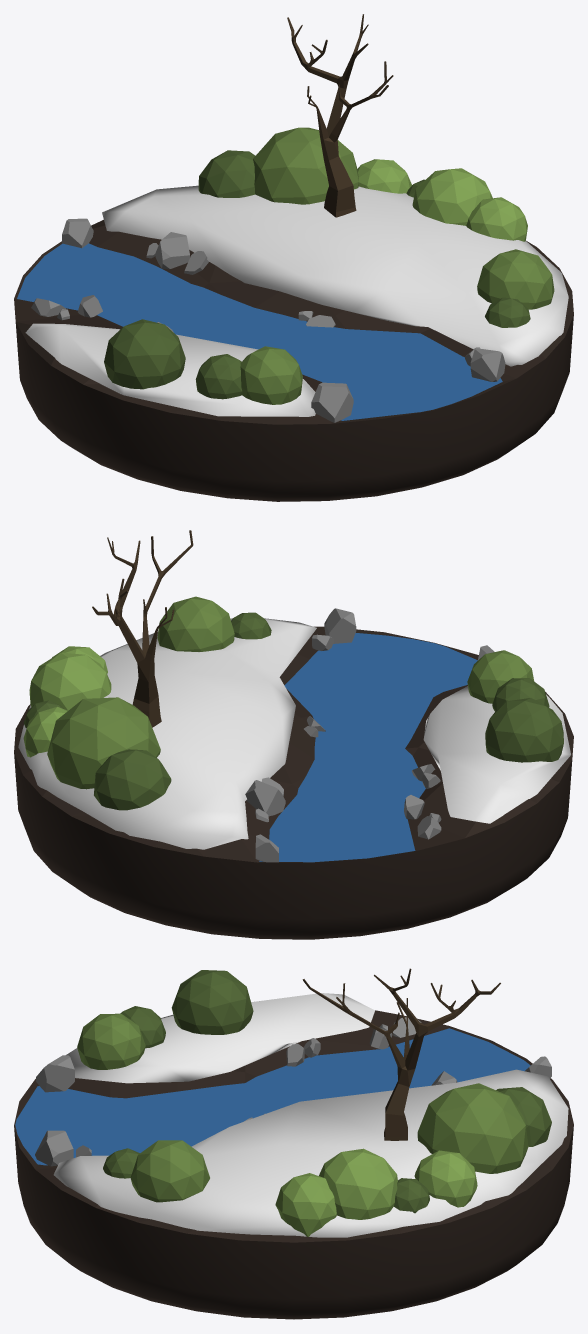
File: WinterV2.glb
3 views of the same model, one above another, from view 1: azimuth 30°, elevation 25°; view 2: azimuth 150°, elevation 25°; view 3: azimuth 270°, elevation 25° (orthographic).
Visible parts, largest first — view 1: Ground-winter.001, SnowLeft, River_plane.001, SnowRight, Bush2.004, Bush2.007, Big tree.002, Bush4.001, Bush2.005, Bush2.006, Bush1.001, Bush3.002 (+7 smaller); view 2: Ground-winter.001, SnowLeft, River_plane.001, SnowRight, Bush2.004, Bush2.007, Big tree.002, Bush1.001, Bush2.005, Bush4.001, Bush2.006, Bush3.003 (+5 smaller); view 3: Ground-winter.001, SnowLeft, River_plane.001, SnowRight, Bush2.004, Bush2.007, Bush2.005, Big tree.002, Bush4.001, Bush2.006, Bush3.002, Bush3.003 (+6 smaller).
Boxes of the visible parts, x1,y1,x2,y2 form: Ground-winter.001: (14, 219, 573, 501); SnowLeft: (102, 185, 568, 366); River_plane.001: (17, 243, 502, 420); SnowRight: (25, 323, 315, 416); Bush2.004: (253, 127, 358, 204); Bush2.007: (104, 319, 185, 389); Big tree.002: (287, 14, 393, 217); Bush4.001: (477, 249, 554, 309); Bush2.005: (412, 168, 492, 225); Bush2.006: (240, 346, 302, 404); Bush1.001: (198, 150, 255, 197); Bush3.002: (466, 197, 527, 241); Ground-winter.001: (14, 626, 573, 939); SnowLeft: (18, 618, 316, 849); River_plane.001: (259, 633, 477, 862); SnowRight: (423, 686, 570, 823); Bush2.004: (47, 697, 160, 789); Bush2.007: (485, 698, 563, 762); Big tree.002: (92, 530, 193, 727); Bush1.001: (94, 749, 171, 810); Bush2.005: (29, 652, 111, 710); Bush4.001: (157, 596, 234, 651); Bush2.006: (467, 650, 533, 703); Bush3.003: (23, 706, 67, 757); Ground-winter.001: (14, 1010, 573, 1319); SnowLeft: (53, 1069, 568, 1237); River_plane.001: (15, 1028, 530, 1165); SnowRight: (66, 993, 374, 1083); Bush2.004: (417, 1083, 528, 1173); Bush2.007: (171, 970, 253, 1034); Bush2.005: (319, 1148, 397, 1219); Big tree.002: (302, 968, 500, 1140); Bush4.001: (130, 1140, 209, 1202); Bush2.006: (77, 1013, 145, 1069); Bush3.002: (275, 1173, 336, 1236); Bush3.003: (414, 1150, 477, 1207).
Size of the model in its own units: 2.17 by 1.34 by 2.17.
